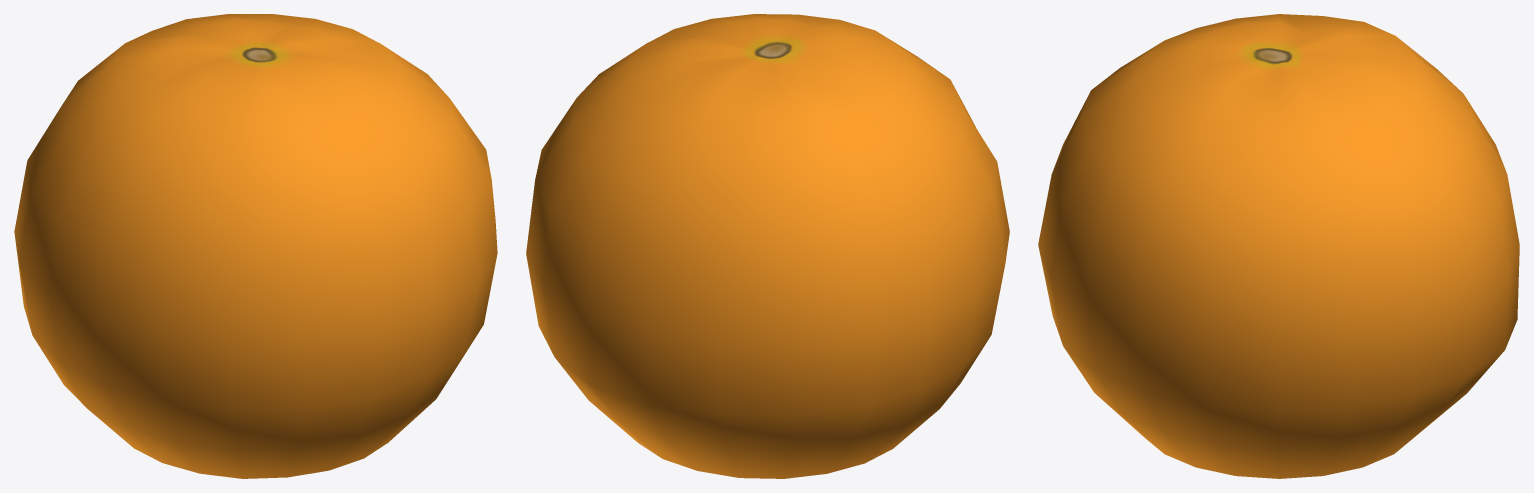
Rendered from orange.glb.
3 views of the same model, side by side, from view 1: azimuth 30°, elevation 25°; view 2: azimuth 150°, elevation 25°; view 3: azimuth 270°, elevation 25° (orthographic).
Parts seen in each view (by area): view 1: Orange_Orange_0; view 2: Orange_Orange_0; view 3: Orange_Orange_0.
Boxes of the visible parts, bbox=[...] form: Orange_Orange_0: bbox=[14, 14, 497, 478]; Orange_Orange_0: bbox=[526, 14, 1009, 478]; Orange_Orange_0: bbox=[1038, 14, 1519, 478].
Bounding box in the file's own units: 7.47 × 6.75 × 7.5.
1 material, 1 textured.
